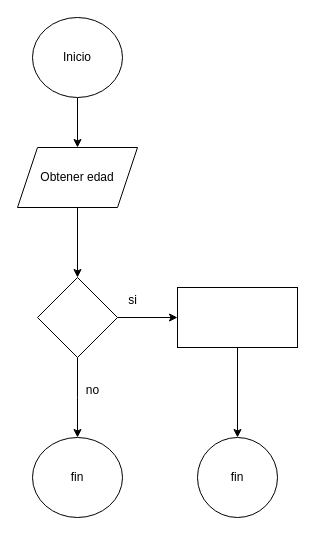
Some shapes in this 315 by 535 pixel diagram are drawn without their labels. Each missing label, with the centre of its shape:
"beber chelita" goes at point 237,317.
"es mayor de edad" goes at point 77,317.
